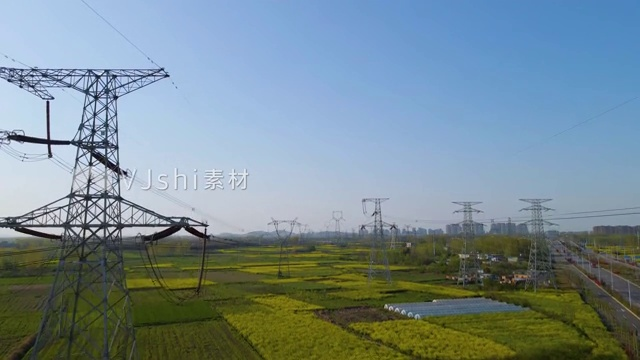tower_body: (1, 57, 186, 359), (517, 195, 560, 296), (448, 198, 492, 290), (356, 193, 399, 282), (267, 214, 305, 280)
tower_foot: (40, 295, 139, 360), (525, 271, 556, 293), (456, 263, 478, 287), (368, 263, 393, 280)
tower_head: (2, 62, 180, 104), (270, 216, 301, 241), (450, 200, 489, 214), (520, 197, 556, 212), (358, 196, 391, 206)
